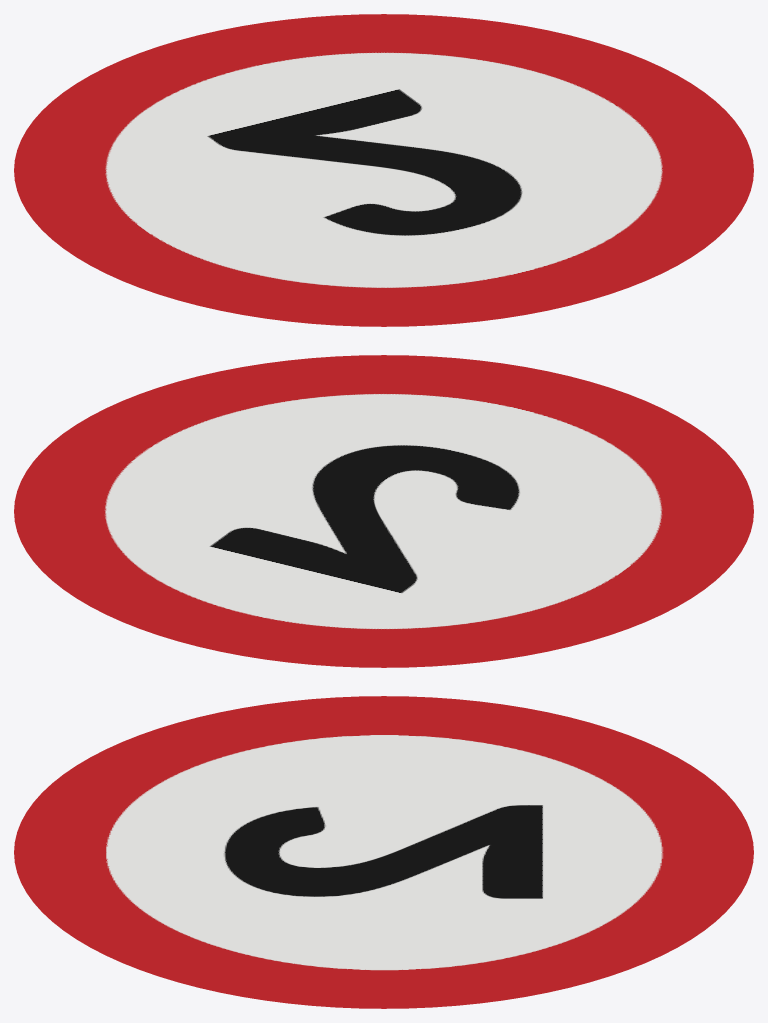
File: stage_02.obj
3 renders of one model, top to bottom at view 1: azimuth 30°, elevation 25°; view 2: azimuth 150°, elevation 25°; view 3: azimuth 270°, elevation 25°, orthographic.
Visible parts, largest first — view 1: stage_02; view 2: stage_02; view 3: stage_02.
Boxes of the visible parts, bbox=[...] form: stage_02: bbox=[14, 14, 753, 326]; stage_02: bbox=[14, 355, 753, 667]; stage_02: bbox=[14, 696, 753, 1008].
Bounding box in the file's own units: 0.6 × 0 × 0.6.
1 material, 1 textured.
